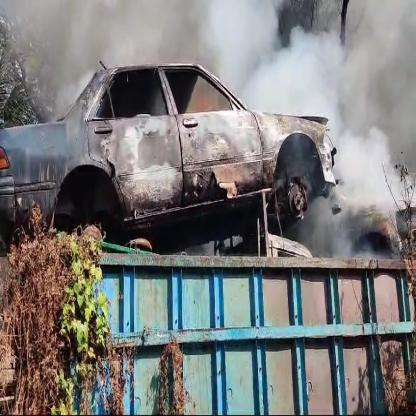Smoke: (0, 0, 416, 231)
